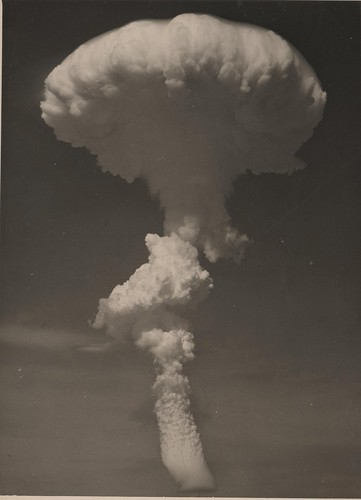smoke: (44, 1, 330, 483)
